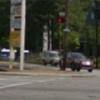cars: (42, 51, 62, 67)
